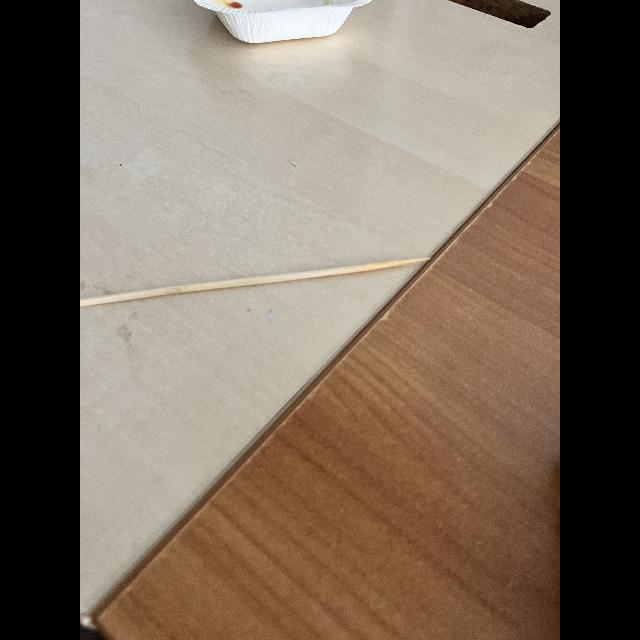stick: (80, 235, 442, 358)
